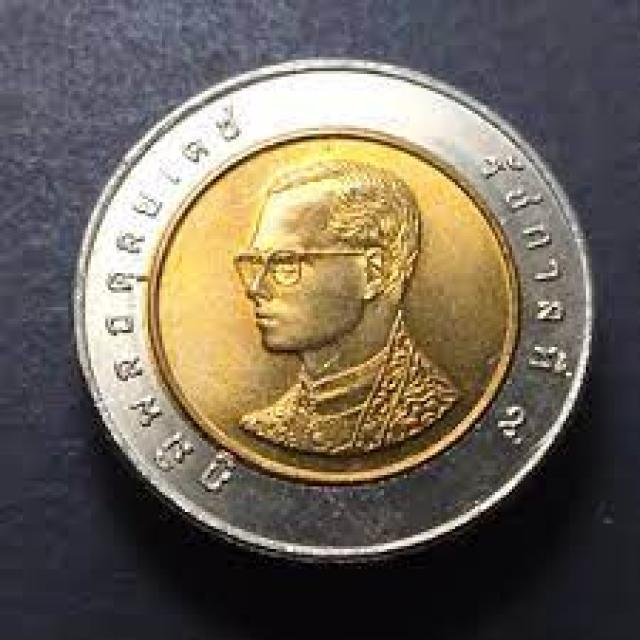10 Bath: (69, 55, 600, 575)
